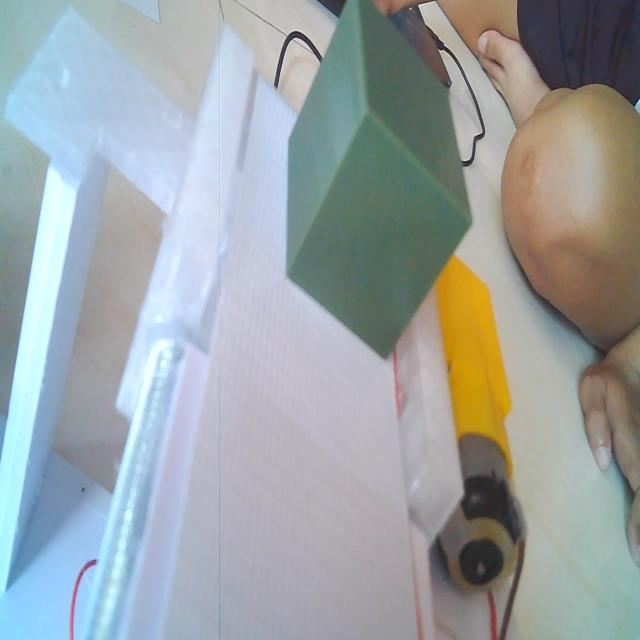green: (280, 0, 475, 365)
